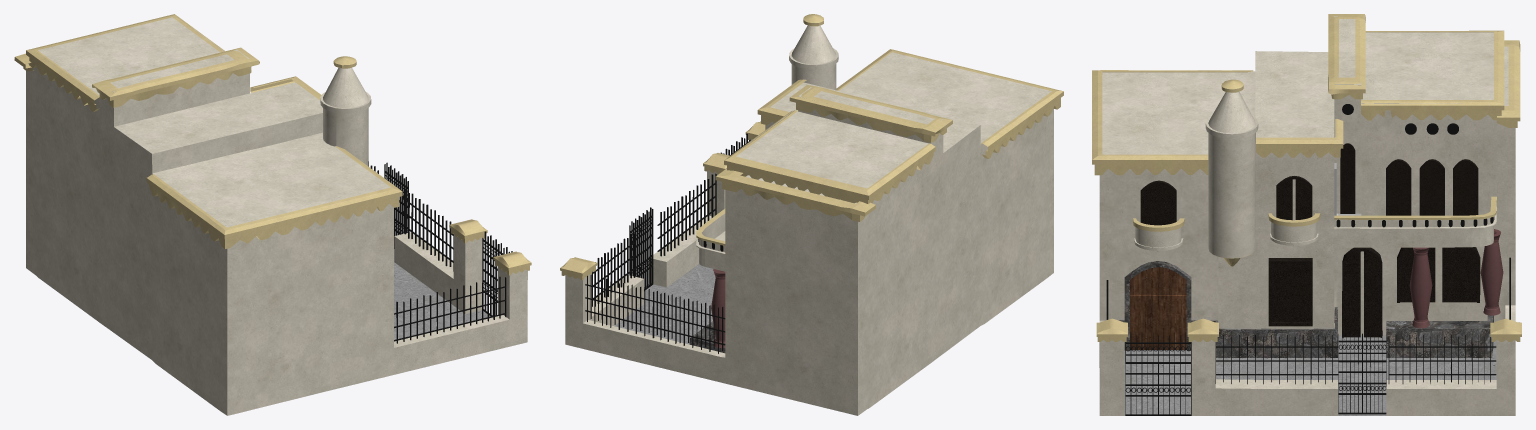
The model's file is Casa.fbx.
3 renders of one model, left to right at view 1: azimuth 30°, elevation 25°; view 2: azimuth 150°, elevation 25°; view 3: azimuth 270°, elevation 25°, orthographic. The views are drawn at different scales.
Parts seen in each view (by area): view 1: Casa2; view 2: Casa2; view 3: Casa2.
Part boxes in pixels (<box>): Casa2: <box>14,14,531,415</box>; Casa2: <box>560,14,1063,415</box>; Casa2: <box>1092,14,1521,415</box>.
Size of the model in its own units: 301 by 247 by 348.
